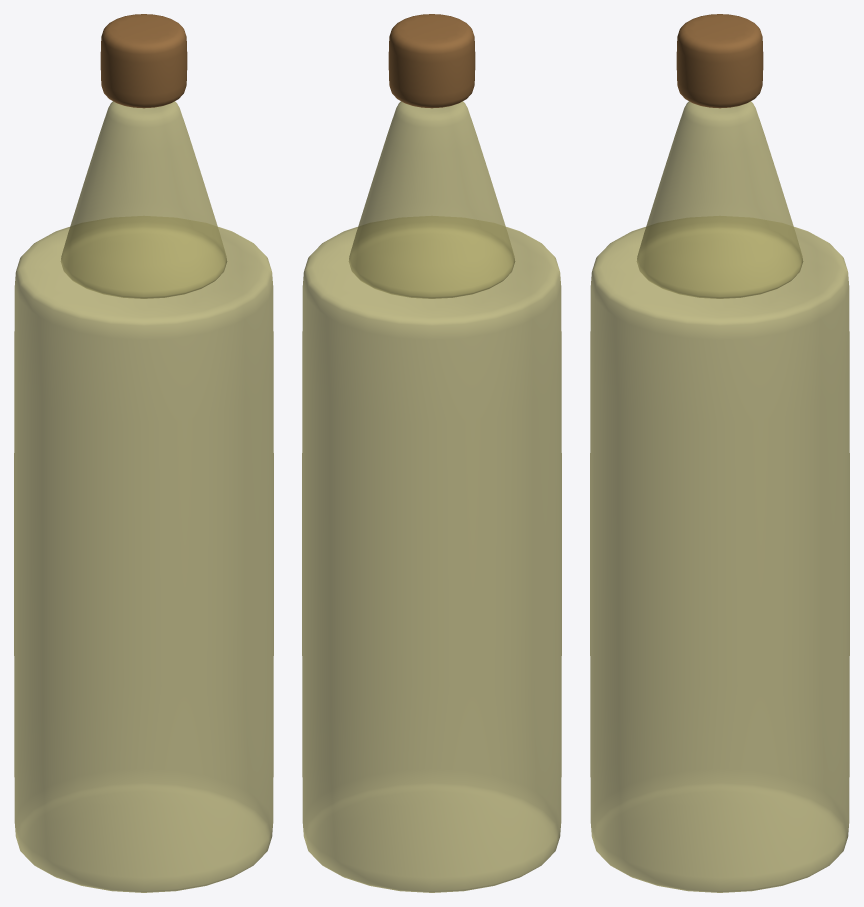
File: oil_bottle.glb
3 views of the same model, side by side, from view 1: azimuth 30°, elevation 25°; view 2: azimuth 150°, elevation 25°; view 3: azimuth 270°, elevation 25° (orthographic).
Visible parts, largest first — view 1: oil_bottle; view 2: oil_bottle; view 3: oil_bottle.
Part boxes in pixels (x1,y1,x2,y2): oil_bottle: [14, 14, 273, 892]; oil_bottle: [302, 14, 561, 892]; oil_bottle: [590, 14, 849, 892].
Bounding box in the file's own units: 0.2865 × 0.9899 × 0.2865.
